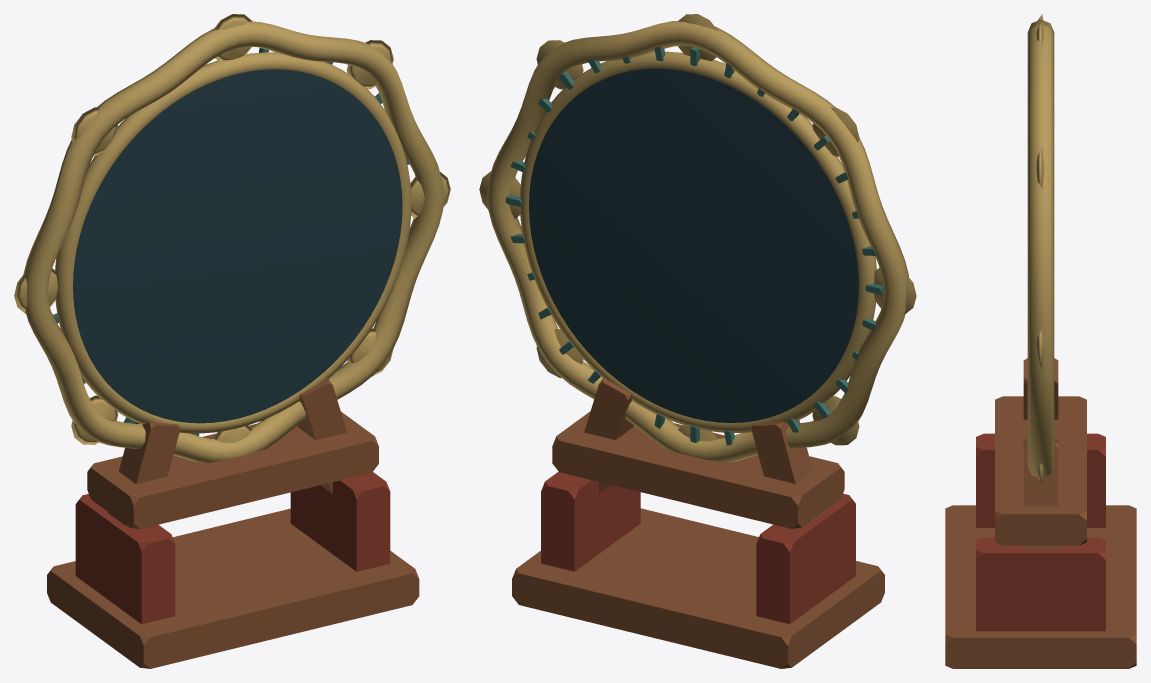
Rendered from bronze_mirror.glb.
The picture shows the model from 3 angles, left to right: view 1: azimuth 30°, elevation 25°; view 2: azimuth 150°, elevation 25°; view 3: azimuth 270°, elevation 25°; orthographic projection.
Parts seen in each view (by area): view 1: bronze_mirror; view 2: bronze_mirror; view 3: bronze_mirror.
Boxes of the visible parts, bbox=[...] form: bronze_mirror: bbox=[14, 14, 450, 668]; bronze_mirror: bbox=[479, 14, 916, 668]; bronze_mirror: bbox=[945, 14, 1136, 668].
Size of the model in its own units: 1.3 by 1.67 by 0.5.
